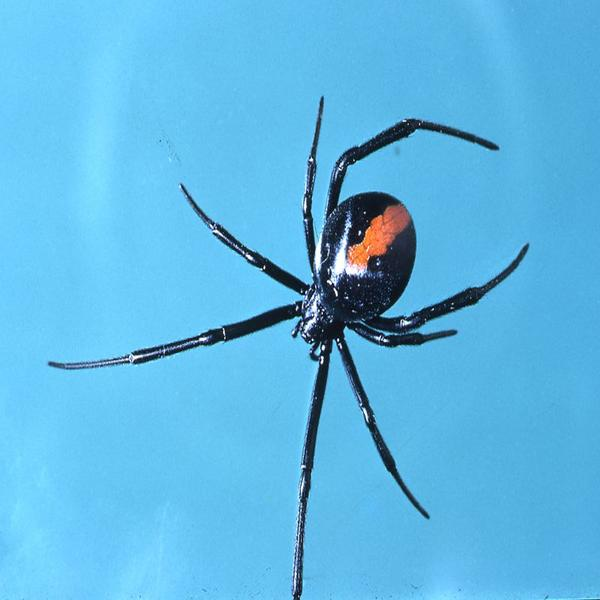Redback Spider: (53, 97, 530, 576)
